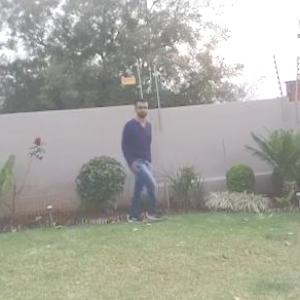follow: (111, 95, 159, 229)
